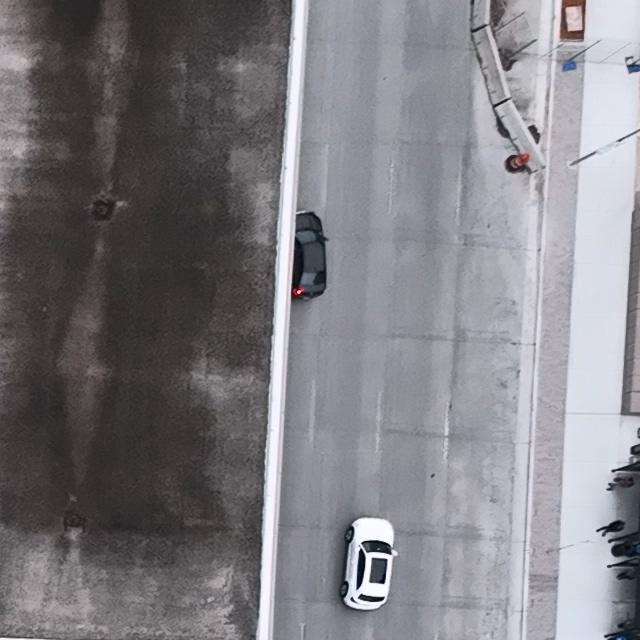car: (339, 516, 397, 611), (291, 210, 330, 300)
